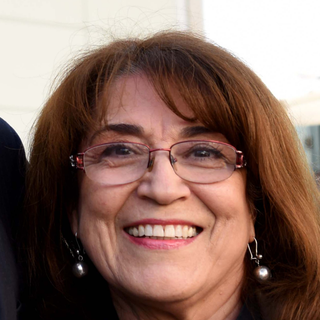eye: (180, 143, 226, 166), (98, 141, 143, 164)
